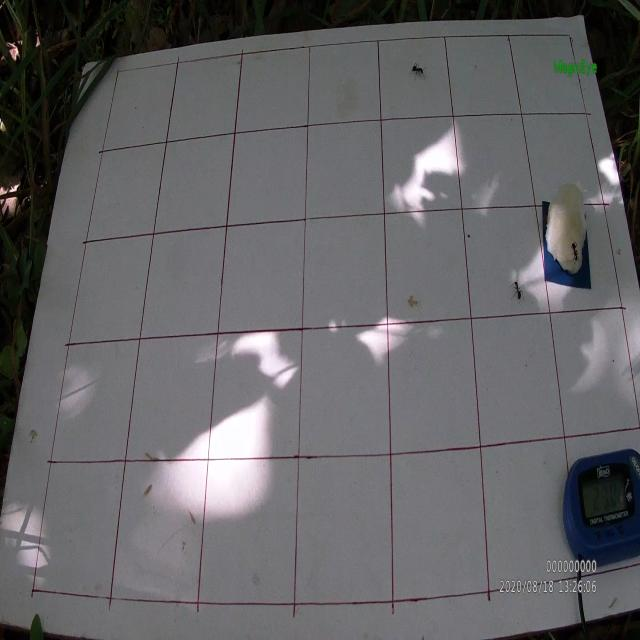Ant: (510, 278, 526, 306), (409, 61, 427, 81), (567, 237, 579, 264), (544, 208, 550, 232)
